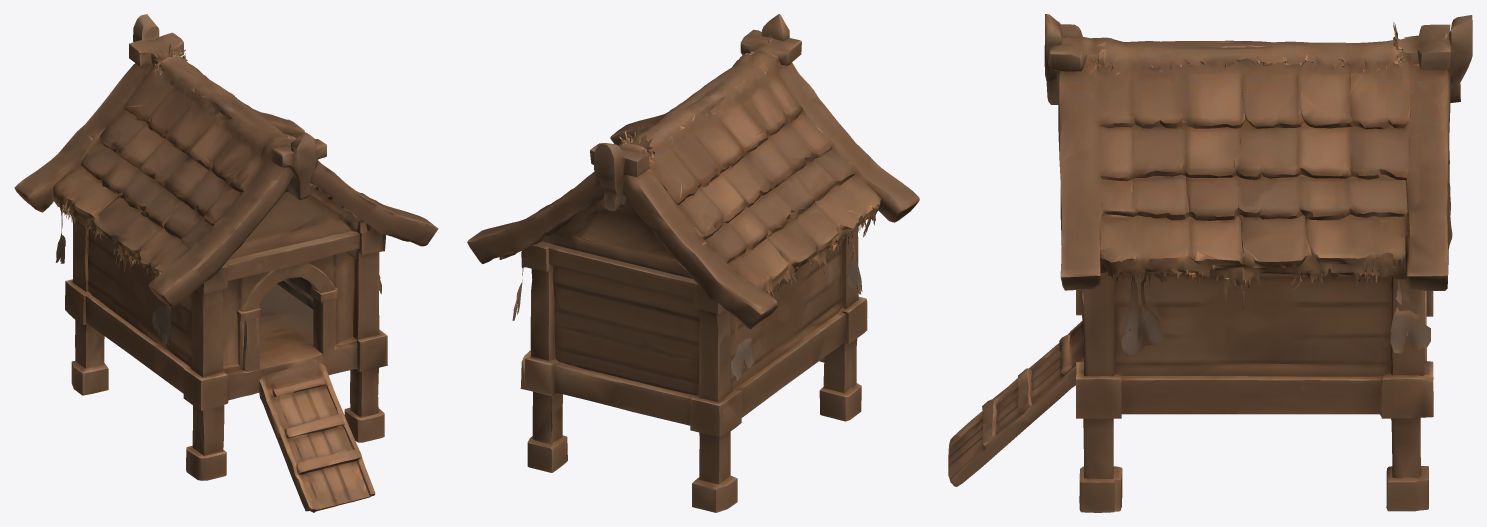
File: ChickenCoop.glb
3 views of the same model, side by side, from view 1: azimuth 30°, elevation 25°; view 2: azimuth 150°, elevation 25°; view 3: azimuth 270°, elevation 25° (orthographic). The views are drawn at different scales.
Visible parts, largest first — view 1: ChickenCoop; view 2: ChickenCoop; view 3: ChickenCoop.
Boxes of the visible parts, x1,y1,x2,y2 form: ChickenCoop: (14, 14, 438, 512); ChickenCoop: (467, 14, 919, 512); ChickenCoop: (948, 14, 1472, 512).
Size of the model in its own units: 1.5 by 1.8 by 1.88.
1 material, 1 textured.
